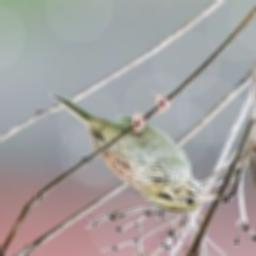Sparrow: (48, 91, 222, 216)
